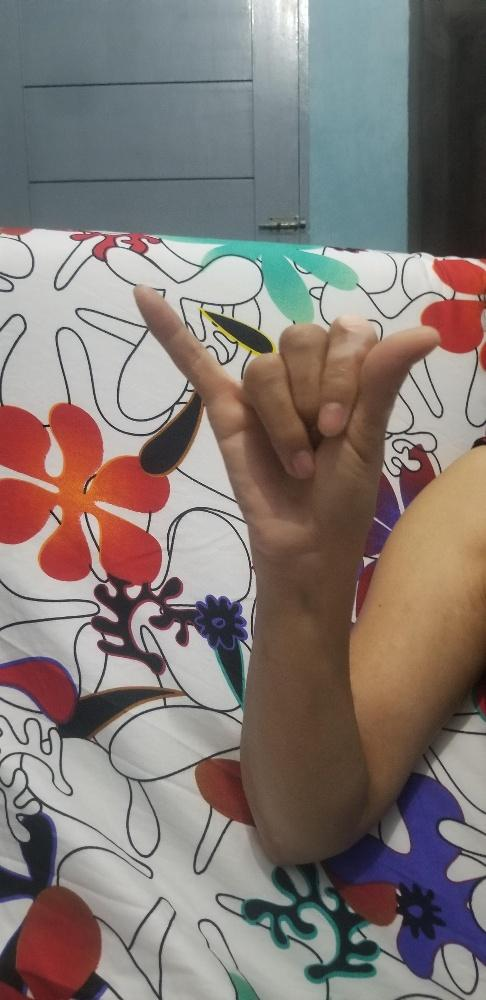y: (130, 281, 441, 556)
